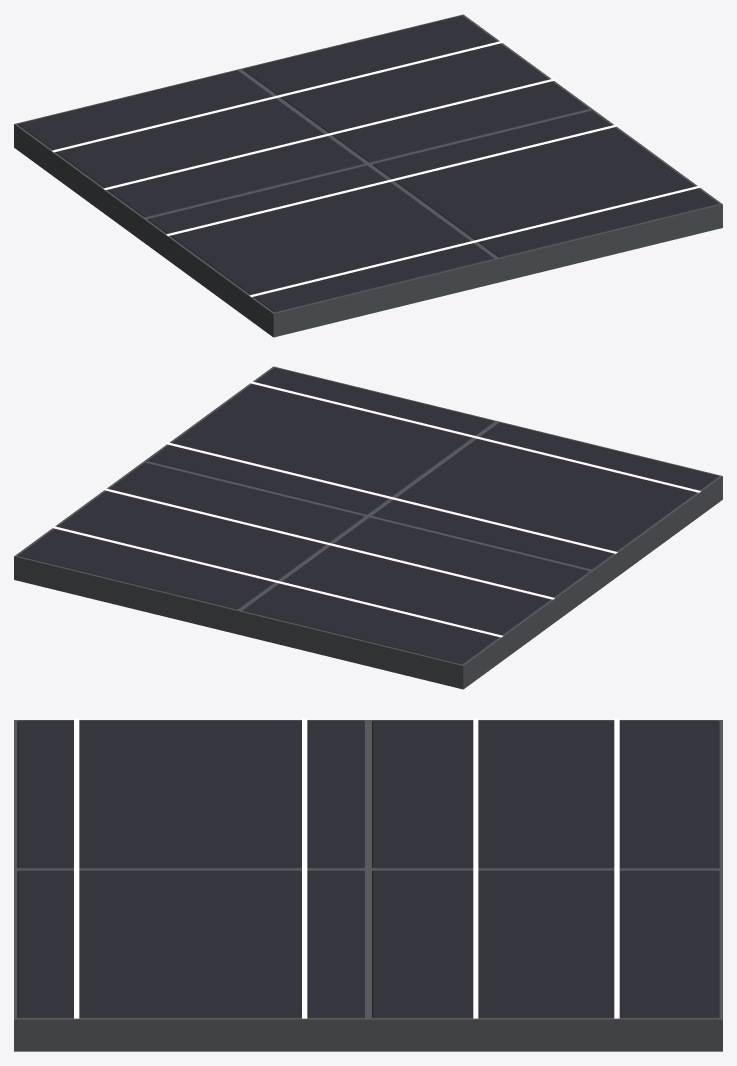
File: floor_an_core.glb
3 renders of one model, top to bottom at view 1: azimuth 30°, elevation 25°; view 2: azimuth 150°, elevation 25°; view 3: azimuth 270°, elevation 25°, orthographic. The views are drawn at different scales.
Visible parts, largest first — view 1: floor_an_core; view 2: floor_an_core; view 3: floor_an_core.
Boxes of the visible parts, x1,y1,x2,y2 form: floor_an_core: (14, 14, 722, 337); floor_an_core: (14, 366, 722, 689); floor_an_core: (14, 718, 722, 1051).
Bounding box in the file's own units: 4 × 0.21 × 4.
